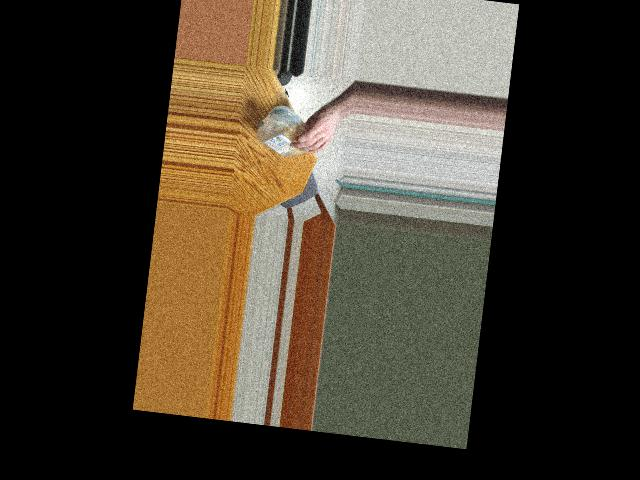cheese: (252, 104, 323, 164)
